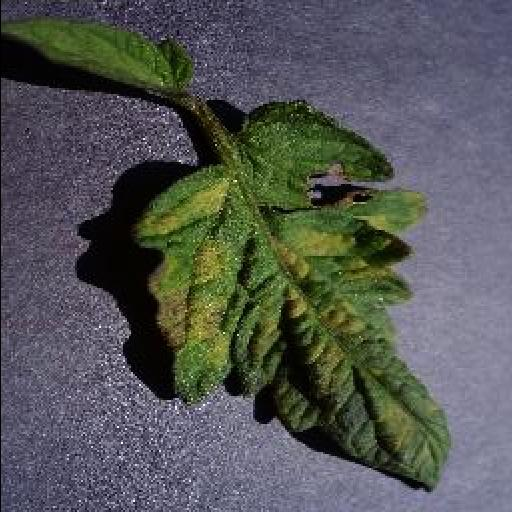disease_tomato: (132, 99, 446, 495)
